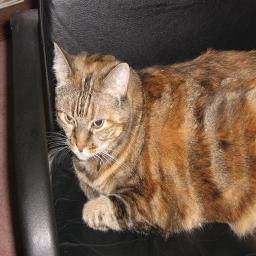catnose: (75, 144, 86, 154)
